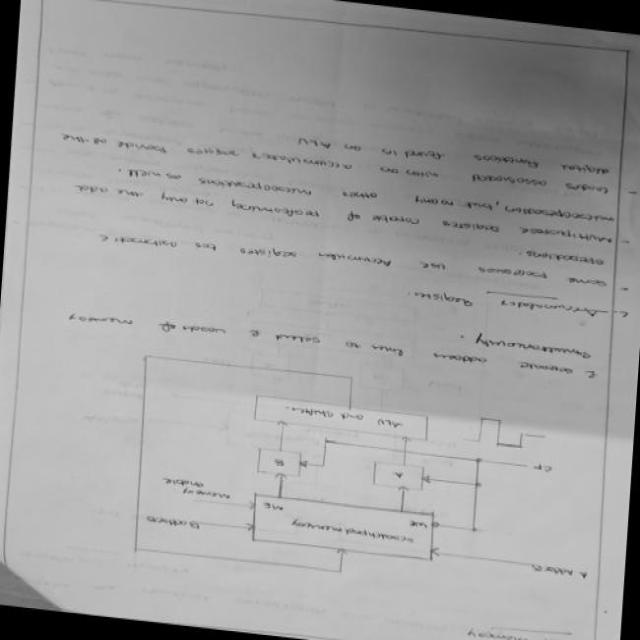Figure Detection - v3 Dataset Version2: (98, 342, 592, 620)
